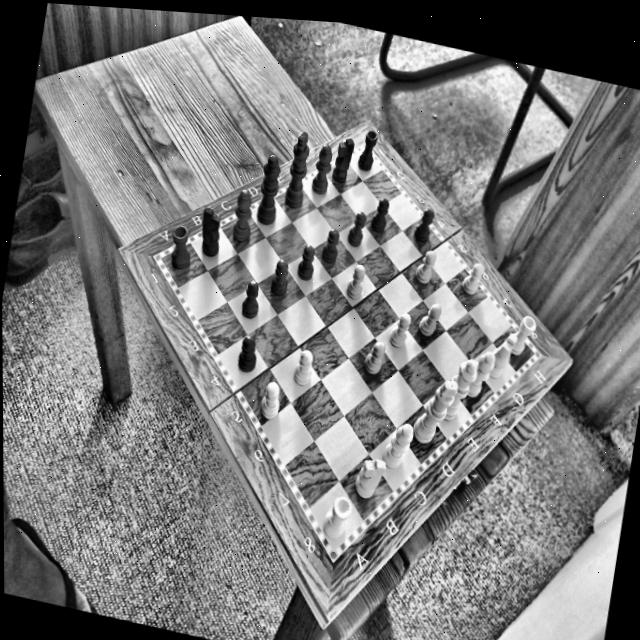black-bishop: (227, 181, 258, 248), (307, 140, 334, 200)
black-king: (280, 125, 315, 213)
black-knight: (193, 202, 226, 261), (329, 131, 356, 185)
black-pawn: (228, 330, 264, 378), (405, 200, 439, 249), (233, 273, 263, 323), (366, 190, 394, 239), (315, 222, 343, 271), (265, 253, 292, 300), (294, 240, 317, 287), (343, 206, 367, 250)
black-queen: (252, 149, 285, 229)
black-rook: (164, 217, 196, 273), (354, 125, 381, 174)
white-bishop: (459, 341, 500, 407), (377, 413, 416, 482)
white-king: (405, 366, 461, 454)
white-knight: (349, 446, 389, 505), (484, 323, 520, 388)
white-pawn: (283, 341, 320, 395), (454, 255, 488, 303), (412, 296, 445, 344), (356, 334, 388, 382), (253, 377, 285, 425), (340, 258, 369, 307), (409, 244, 441, 288), (384, 305, 412, 353)
white-queen: (435, 347, 480, 436)
white-rook: (315, 486, 356, 547), (502, 307, 542, 365)
